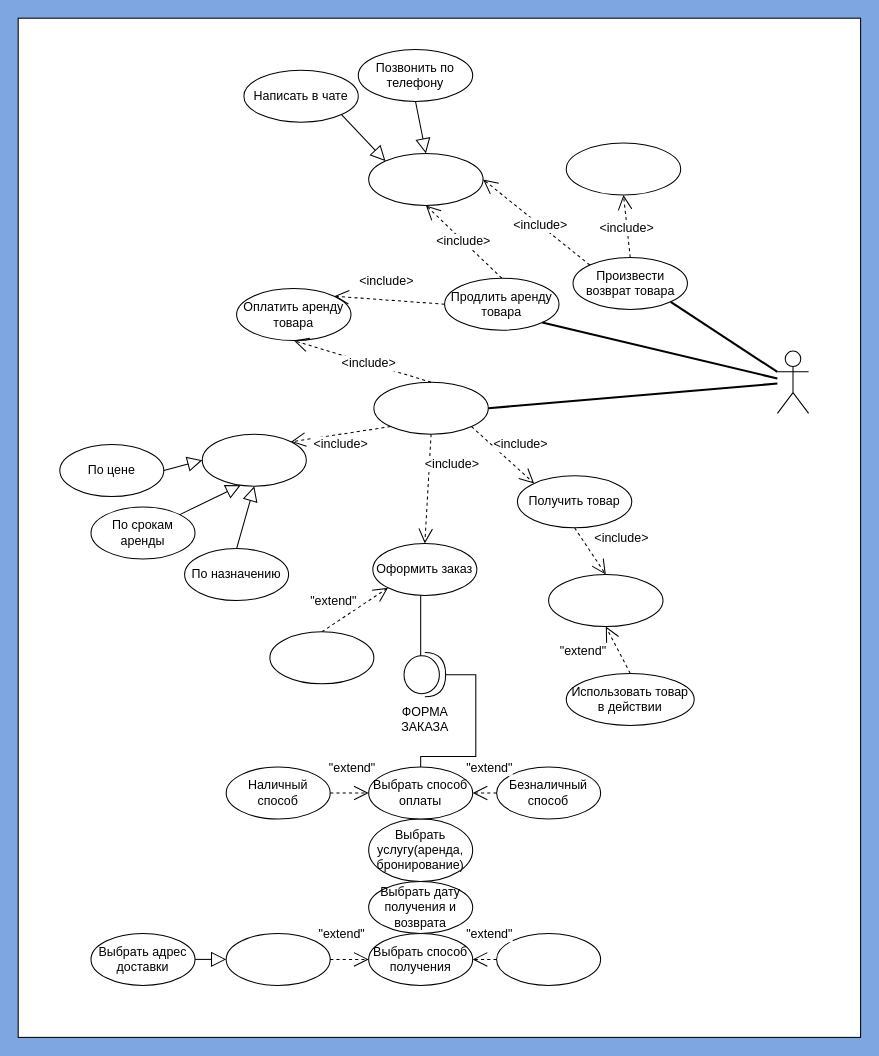
Some shapes in this 879 by 1056 pixel diagram are drawn without their labels. Each missing label, with the centre of its shape:
Арендатор: [792,381]
Доставка по адресу: [277,958]
Заказать товар в прокат: [430,407]
Отменить заказ: [321,657]
Передать товар курьеру: [623,168]
Поиск товара: [253,459]
Проверить товар: [605,600]
Самовывоз: [548,958]
Связаться с арендодателем: [425,178]
